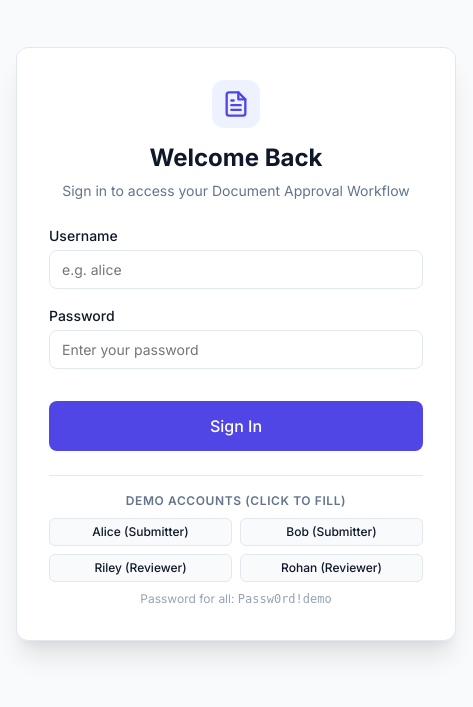
it: Frontend: Login Page › displays error banner when login API rejects credentials
Type "alice" into the field labelled "Username".
click(236, 270); type("alice")  # box [49,250,423,289]
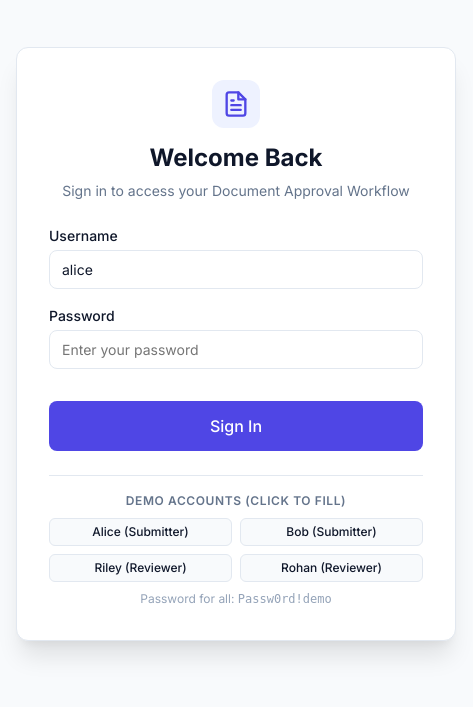
Type "wrongpass" into the password field labelled "Password".
click(236, 350); type("wrongpass")  # box [49,330,423,369]
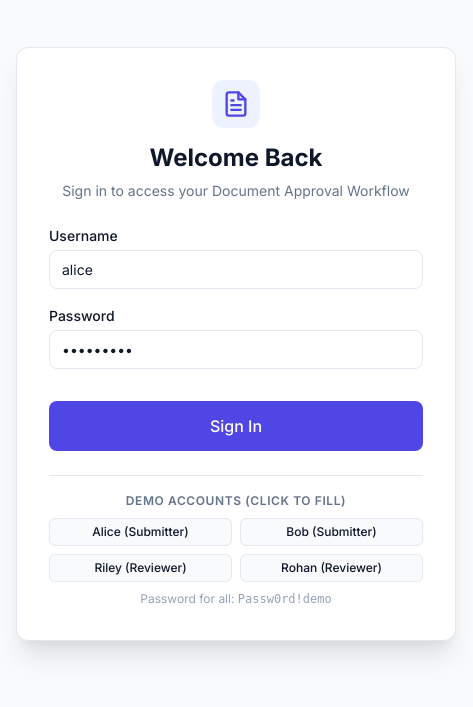
Click the button "Sign In".
click(236, 426)  # box [49,401,423,451]
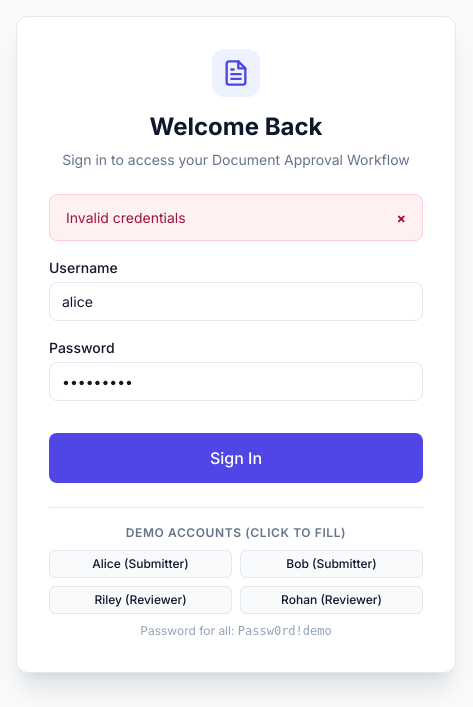
Result: the message shows "Invalid credentials" at [66,208,186,226]
